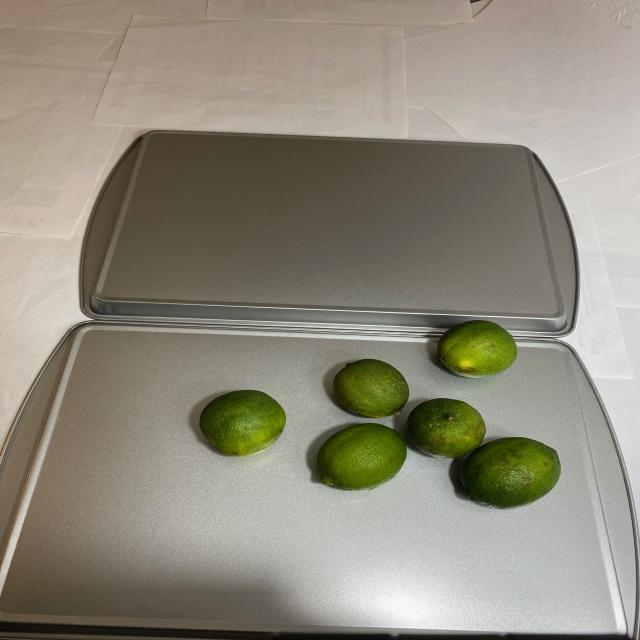lemon: (194, 320, 568, 514)
